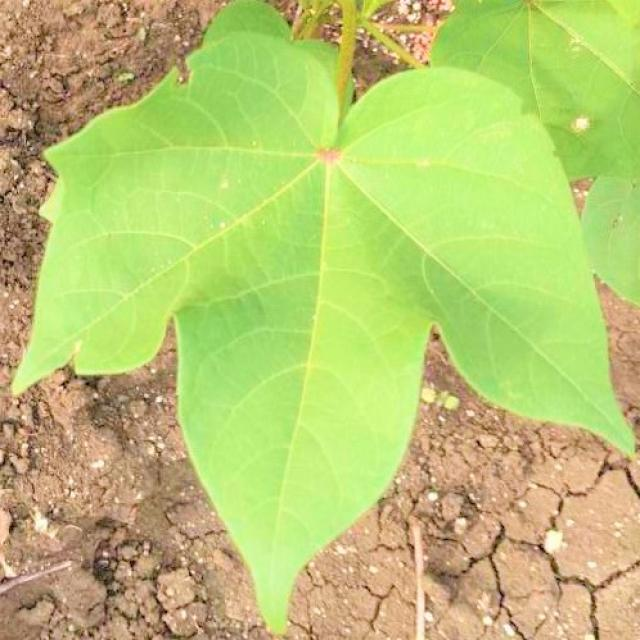Healthy Leaf: (26, 7, 638, 593)
